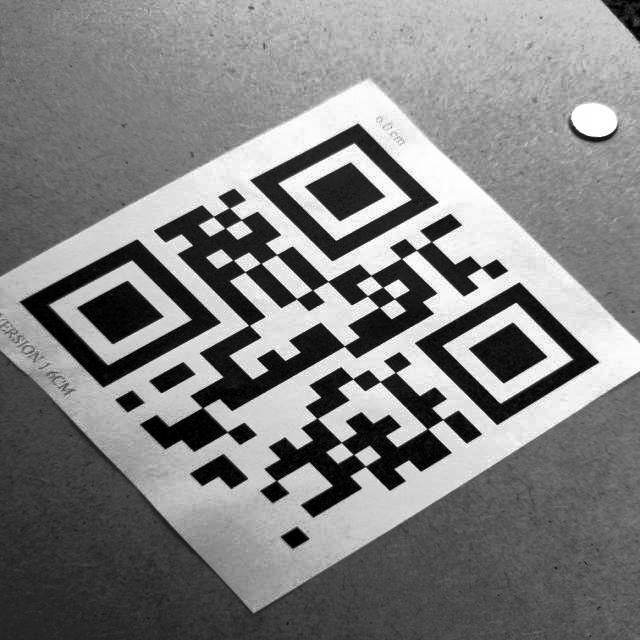qr_code: (14, 114, 611, 560)
